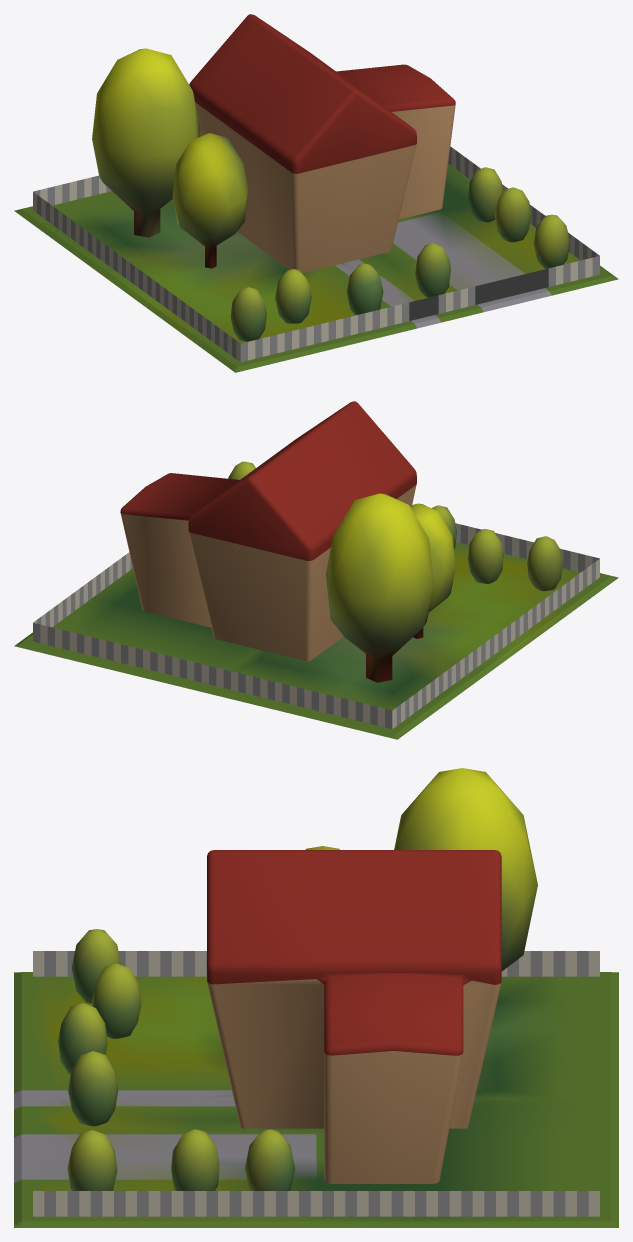
The model's file is SM_Building_House_1.glb.
3 renders of one model, top to bottom at view 1: azimuth 30°, elevation 25°; view 2: azimuth 150°, elevation 25°; view 3: azimuth 270°, elevation 25°, orthographic. The views are drawn at different scales.
Parts seen in each view (by area): view 1: SM_Building_House_1; view 2: SM_Building_House_1; view 3: SM_Building_House_1.
Part boxes in pixels (x1,y1,x2,y2): SM_Building_House_1: [14, 14, 618, 372]; SM_Building_House_1: [14, 401, 618, 739]; SM_Building_House_1: [14, 768, 618, 1227].
Size of the model in its own units: 8 by 3.73 by 8.
